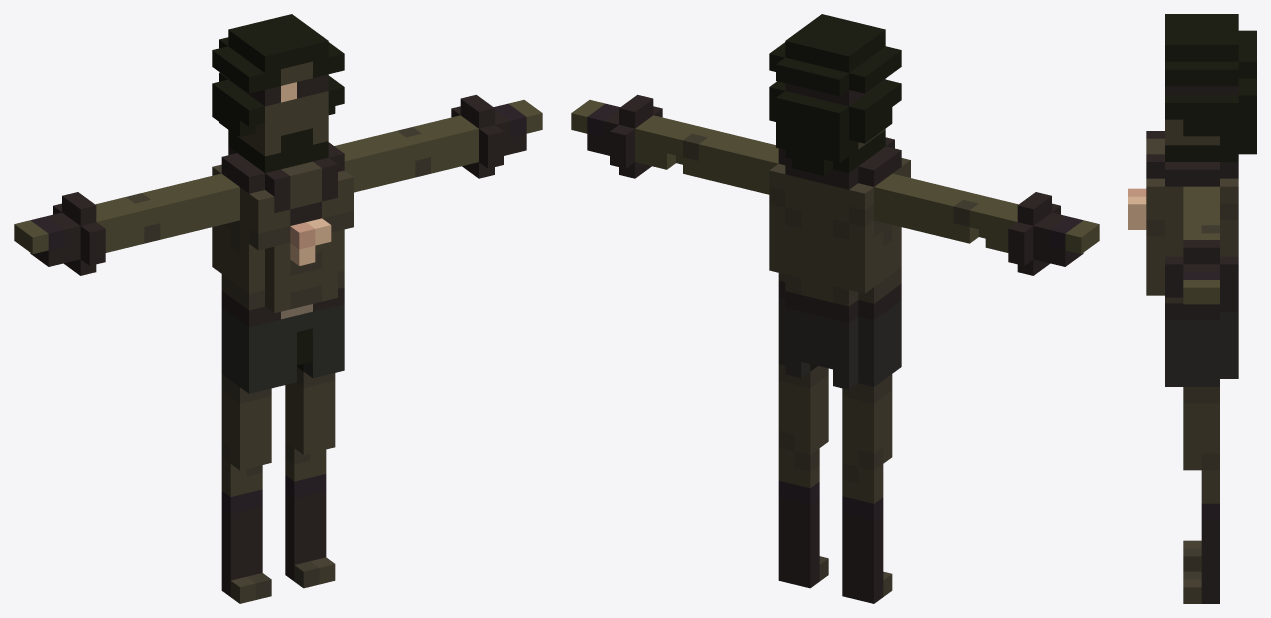
The model's file is TPose_Character09.glb.
3 renders of one model, left to right at view 1: azimuth 30°, elevation 25°; view 2: azimuth 150°, elevation 25°; view 3: azimuth 270°, elevation 25°, orthographic.
Visible parts, largest first — view 1: Character09; view 2: Character09; view 3: Character09.
Boxes of the visible parts, x1,y1,x2,y2 form: Character09: (14, 14, 542, 603); Character09: (571, 14, 1099, 603); Character09: (1128, 14, 1256, 603).
Bounding box in the file's own units: 1.94 × 2 × 0.4241.
1 material, 1 textured.
